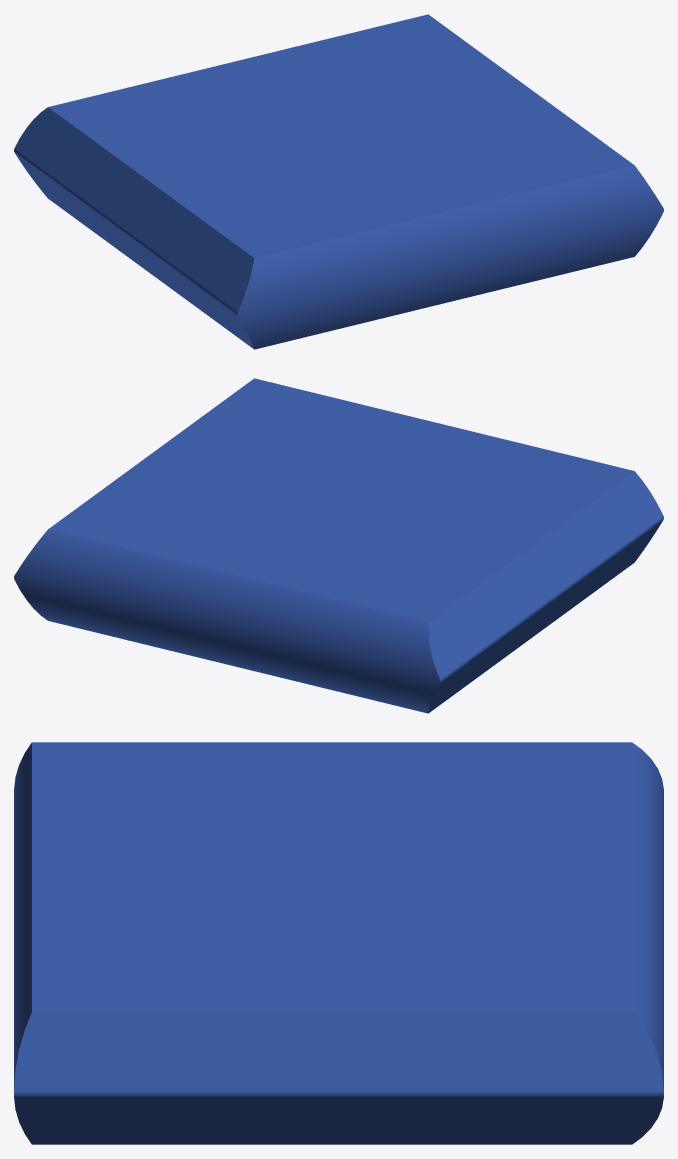
File: Unity Assets - Stab Rave Beater Chassis Collision.dae
The picture shows the model from 3 angles, top to bottom: view 1: azimuth 30°, elevation 25°; view 2: azimuth 150°, elevation 25°; view 3: azimuth 270°, elevation 25°; orthographic projection. The views are drawn at different scales.
Parts seen in each view (by area): view 1: ID2; view 2: ID2; view 3: ID2.
Boxes of the visible parts, x1=… form: ID2: x1=14, y1=14, x2=663, y2=349; ID2: x1=14, y1=378, x2=663, y2=713; ID2: x1=14, y1=742, x2=663, y2=1144.
Size of the model in its own units: 0.1855 by 0.1685 by 0.038.
